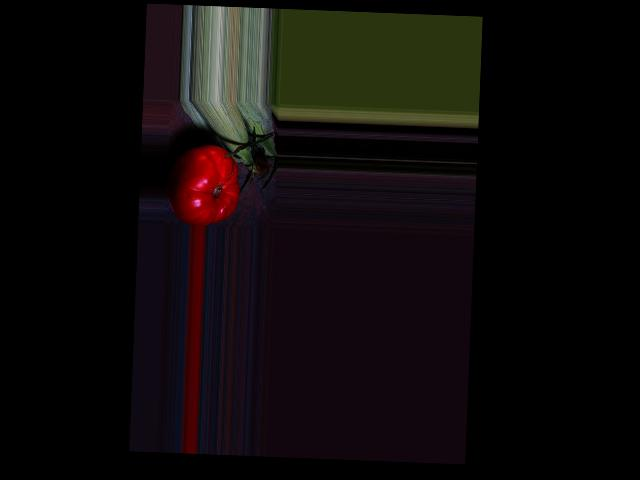tomato: (164, 143, 241, 226)
